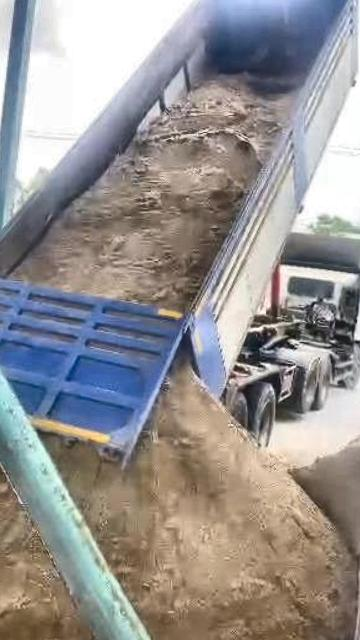sand: (45, 363, 355, 640), (13, 77, 293, 310), (0, 430, 100, 640), (291, 430, 360, 558)
